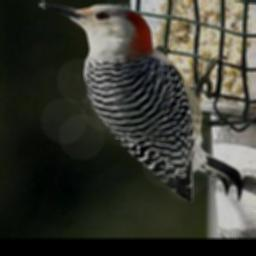Woodpecker: (38, 0, 243, 201)
